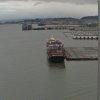Boat: (44, 32, 69, 68)
